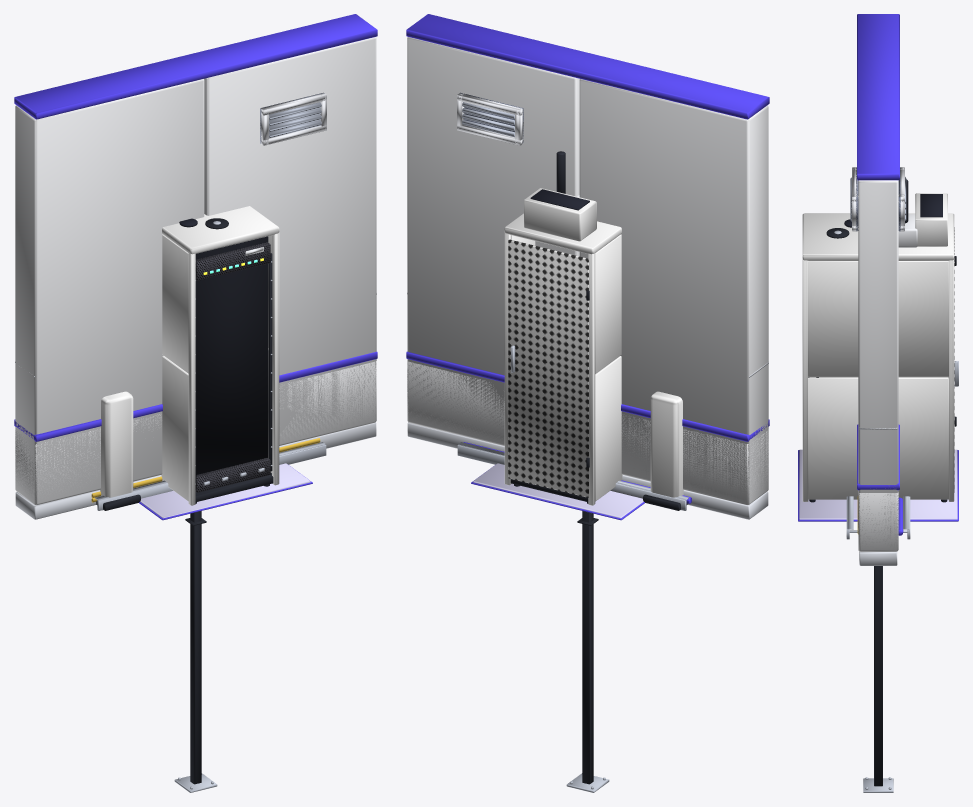
The model's file is hall.glb.
The picture shows the model from 3 angles, left to right: view 1: azimuth 30°, elevation 25°; view 2: azimuth 150°, elevation 25°; view 3: azimuth 270°, elevation 25°; orthographic projection. The views are drawn at different scales.
Parts seen in each view (by area): view 1: wall_tall, rack_a, wall_low, dock, cable_stand, cable_tray; view 2: wall_tall, rack_a, wall_low, dock, cable_stand, rack_b, cable_tray; view 3: rack_a, wall_tall, wall_low, dock, cable_stand, rack_b, cable_tray, rack_c.
Part boxes in pixels (bbox=[...]): wall_tall: bbox=[14, 14, 377, 505]; rack_a: bbox=[161, 206, 279, 505]; wall_low: bbox=[14, 351, 377, 519]; dock: bbox=[96, 391, 312, 520]; cable_stand: bbox=[174, 511, 217, 792]; cable_tray: bbox=[91, 438, 326, 510]; wall_tall: bbox=[406, 14, 769, 503]; rack_a: bbox=[504, 213, 622, 505]; wall_low: bbox=[406, 351, 769, 519]; dock: bbox=[471, 391, 687, 520]; cable_stand: bbox=[566, 511, 609, 792]; rack_b: bbox=[524, 188, 596, 241]; cable_tray: bbox=[457, 442, 691, 510]; rack_a: bbox=[802, 213, 958, 502]; wall_tall: bbox=[850, 14, 906, 550]; wall_low: bbox=[857, 424, 899, 565]; dock: bbox=[798, 449, 958, 521]; cable_stand: bbox=[863, 566, 893, 792]; rack_b: bbox=[915, 193, 947, 246]; cable_tray: bbox=[846, 495, 910, 539]; rack_c: bbox=[844, 179, 917, 247].
Size of the model in its own units: 3 by 6.04 by 1.27.
25 materials, 2 textured.
